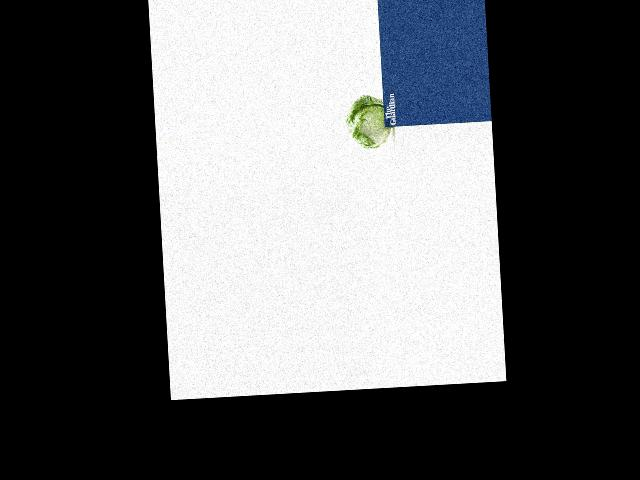lettuce: (342, 95, 392, 149)
